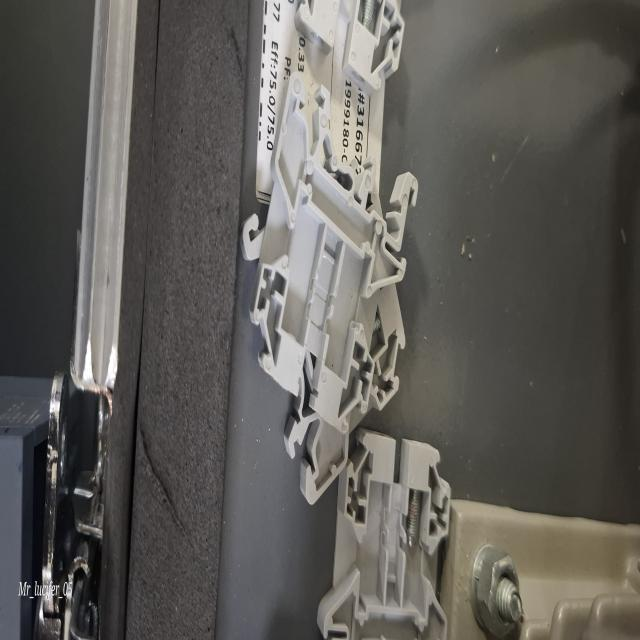Reject: (238, 71, 421, 404), (319, 421, 448, 640)
